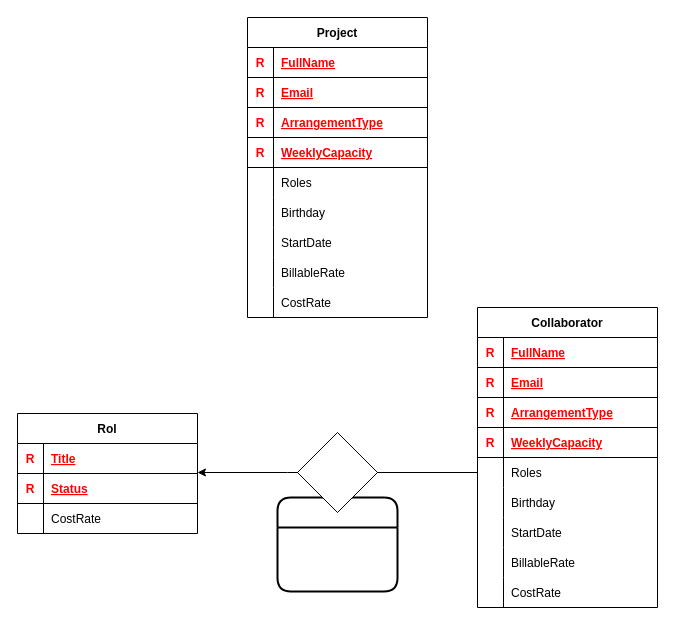
Some shapes in this 675 by 625 pixel diagram are drawn without their labels. The centre of each missing label's shape, as x and y in pixels:
"HAS" belongs at [337,472].
"StartDate FinishedDate Status" belongs at [337,544].
